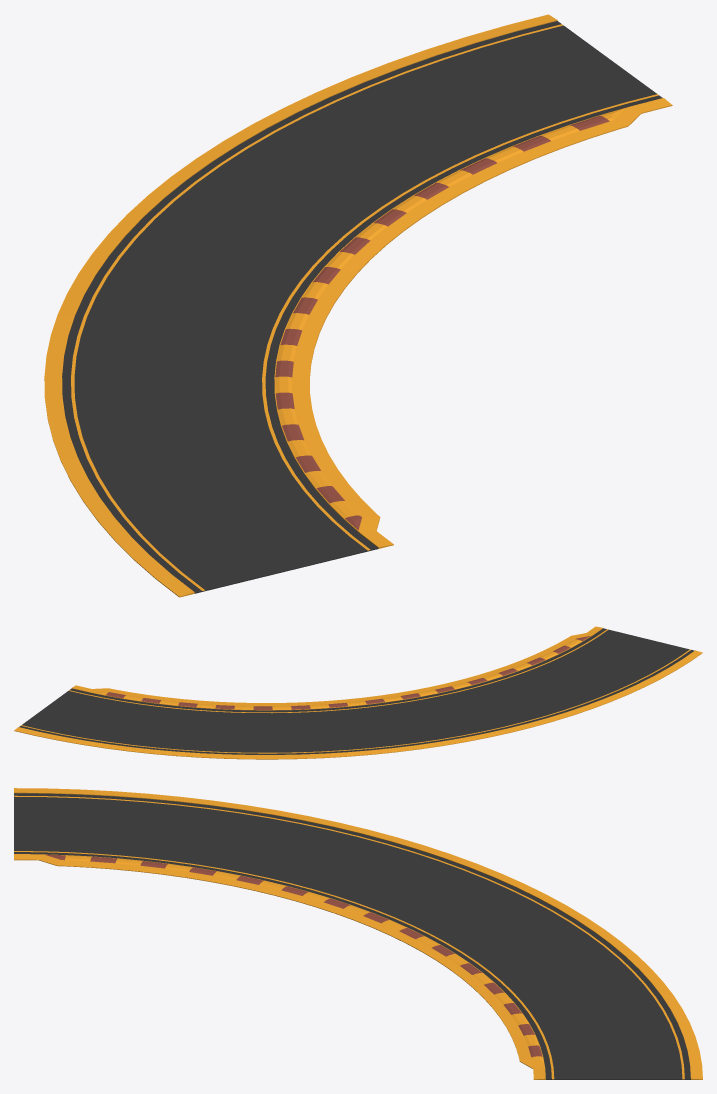
The model's file is SM_Racetrack_RunOff_Curb_Turn_60x60m.fbx.
The picture shows the model from 3 angles, top to bottom: view 1: azimuth 30°, elevation 25°; view 2: azimuth 150°, elevation 25°; view 3: azimuth 270°, elevation 25°; orthographic projection. The views are drawn at different scales.
Parts seen in each view (by area): view 1: SM_Racetrack_RunOff_Curb_Turn_60x60m; view 2: SM_Racetrack_RunOff_Curb_Turn_60x60m; view 3: SM_Racetrack_RunOff_Curb_Turn_60x60m.
Part boxes in pixels (box(x1,y1,x2,y2)): SM_Racetrack_RunOff_Curb_Turn_60x60m: box(44, 14, 672, 597); SM_Racetrack_RunOff_Curb_Turn_60x60m: box(14, 626, 702, 759); SM_Racetrack_RunOff_Curb_Turn_60x60m: box(14, 788, 702, 1079).
Bounding box in the file's own units: 57 × 0.1554 × 57.
